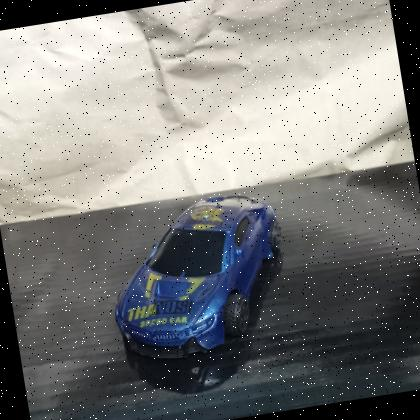Car: (92, 182, 305, 375)
